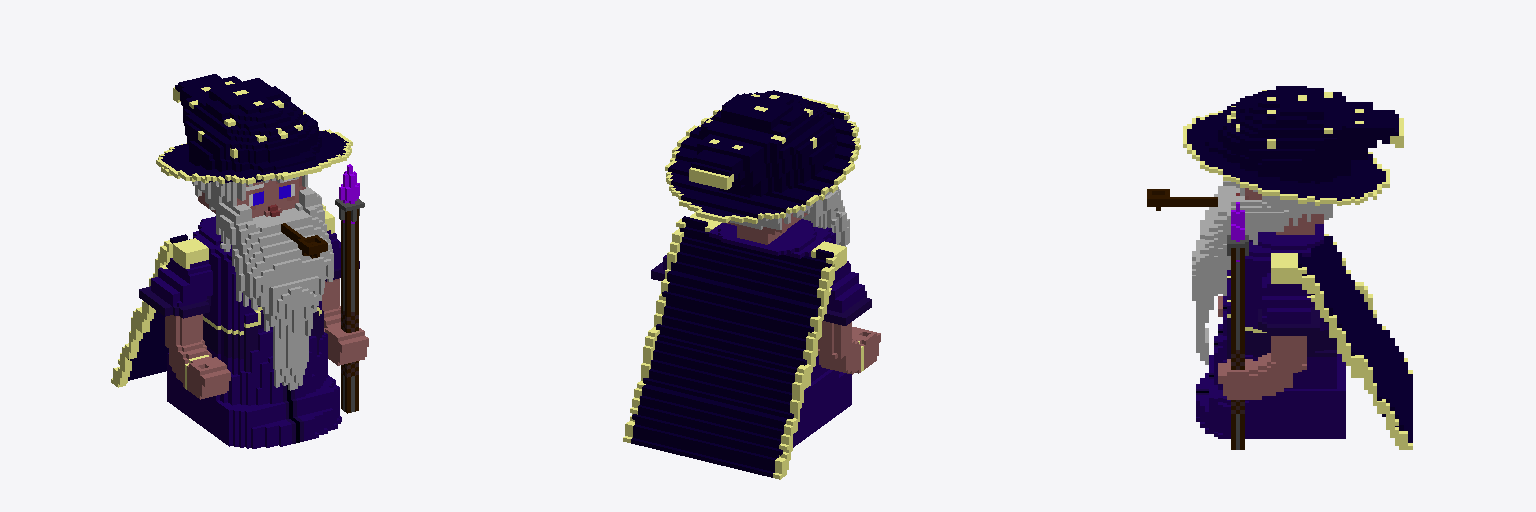
3 renders of one model, left to right at view 1: azimuth 30°, elevation 25°; view 2: azimuth 150°, elevation 25°; view 3: azimuth 270°, elevation 25°, orthographic.
Visible parts, largest first — view 1: object 1; view 2: object 1; view 3: object 1.
Part boxes in pixels (bbox=[...]): object 1: bbox=[111, 74, 368, 448]; object 1: bbox=[623, 90, 880, 479]; object 1: bbox=[1147, 86, 1412, 449].
Bounding box in the file's own units: 5.1 × 7.8 × 6.
Materials: 1 (1 with a texture image).